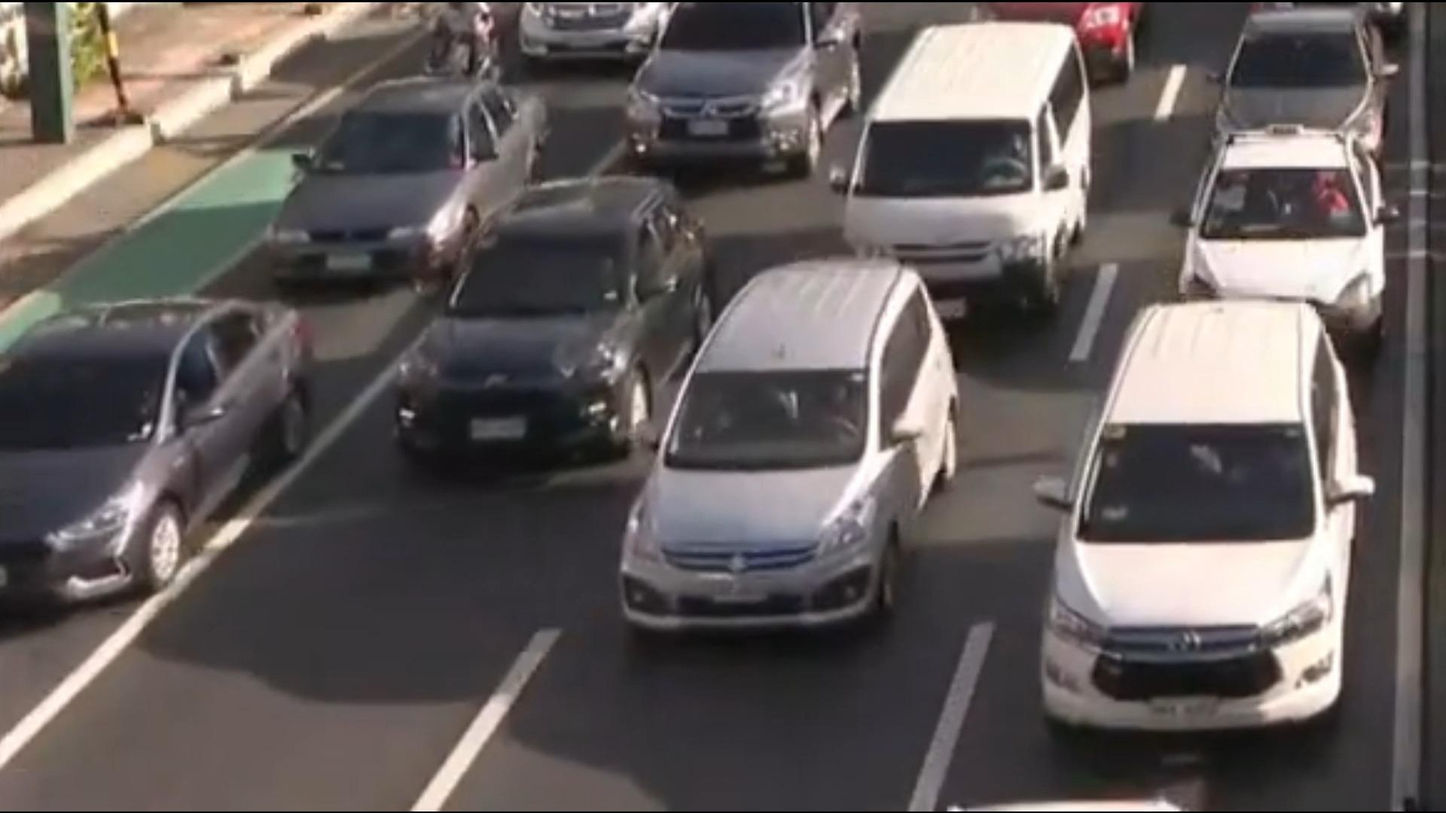SUV: (1004, 305, 1397, 772), (584, 243, 993, 669), (373, 142, 742, 511), (585, 0, 900, 203)
Sedan: (0, 269, 334, 618), (238, 64, 592, 306), (1158, 138, 1397, 343)
Van: (822, 14, 1113, 365)
